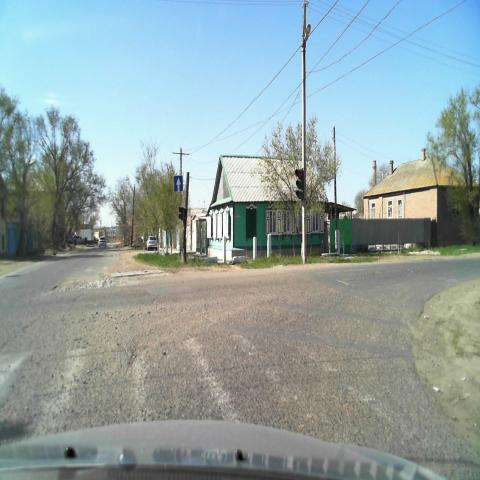5_5: (174, 175, 184, 193)
